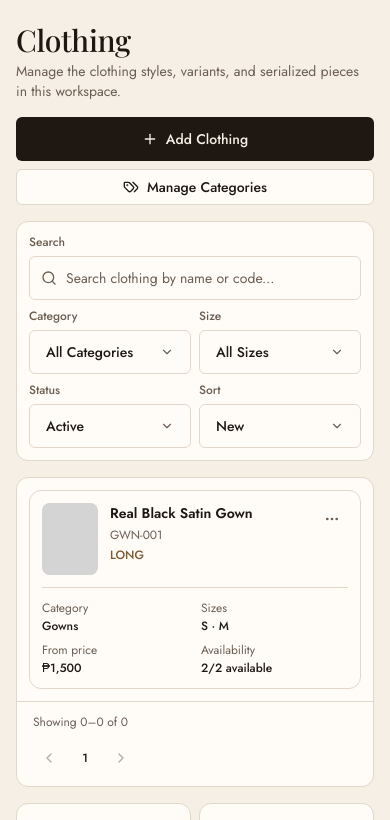
Scenario: ClothingPage › sends search text to the backend instead of filtering a local mock array
This screenshot has width=390, height=820.
Expected: the list item "Real Black Satin Gown" is shown, [29, 490, 361, 689]
In the field labelled "Search": x=195, y=278 [29, 256, 361, 300], type "DRS-002"
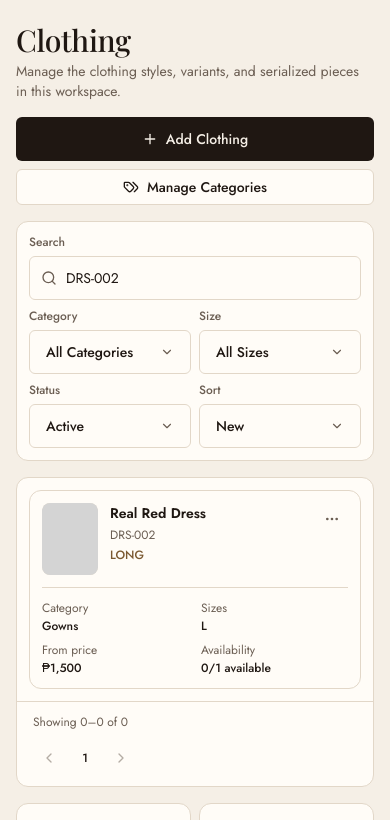
Now the list item "Real Red Dress" is shown, box [29, 490, 361, 689]
